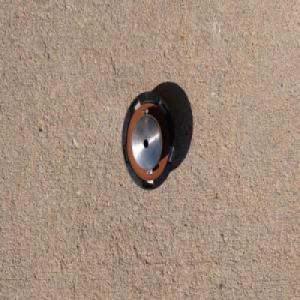FuelCap: (119, 88, 177, 193)
